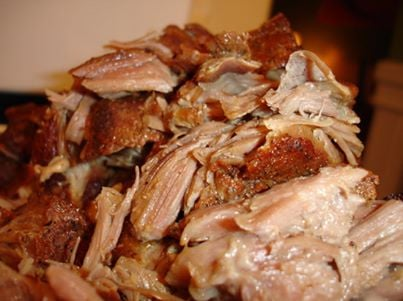sandwich: (3, 9, 389, 300)
